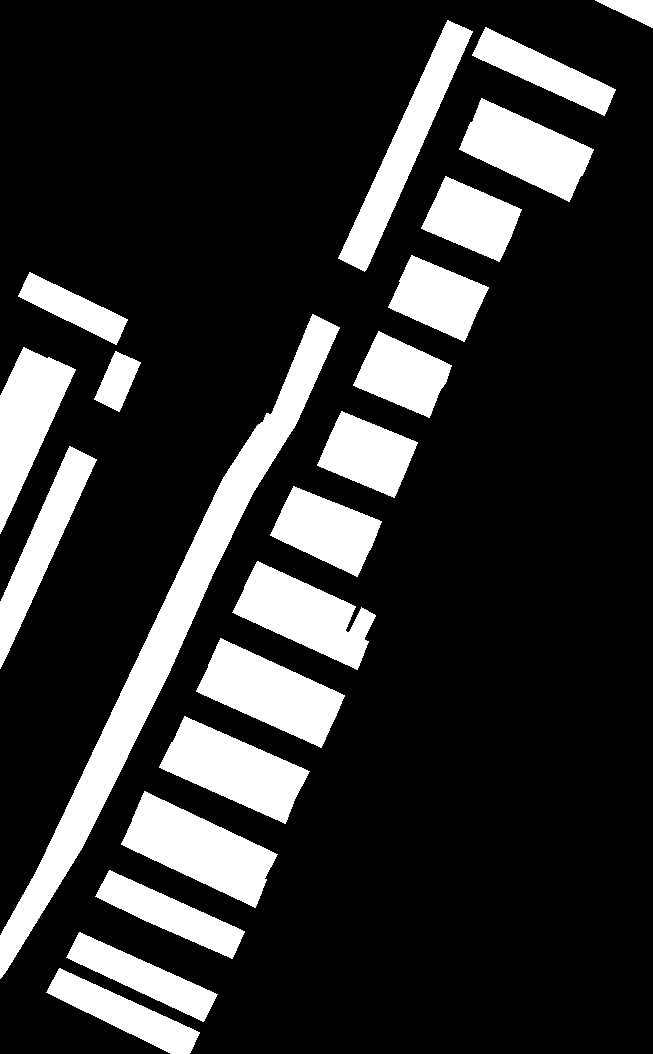parkingspot: (0, 314, 339, 978), (338, 20, 472, 271), (0, 446, 96, 668), (66, 932, 217, 1021), (0, 357, 75, 533), (46, 968, 199, 1054), (95, 870, 244, 958), (121, 818, 266, 907), (132, 791, 277, 878), (472, 27, 615, 115), (196, 664, 333, 747), (172, 716, 309, 799), (208, 638, 344, 721), (232, 587, 368, 669), (159, 742, 295, 823), (459, 122, 581, 201), (471, 98, 593, 175), (244, 561, 355, 632), (18, 272, 127, 344), (270, 511, 369, 576), (281, 486, 381, 549), (0, 347, 49, 468), (421, 201, 511, 261), (433, 176, 521, 237), (399, 255, 488, 315), (317, 437, 406, 497), (365, 331, 451, 392), (388, 281, 475, 341), (329, 411, 417, 469), (353, 358, 439, 417), (94, 351, 140, 411), (595, 0, 653, 27), (348, 607, 375, 640)
